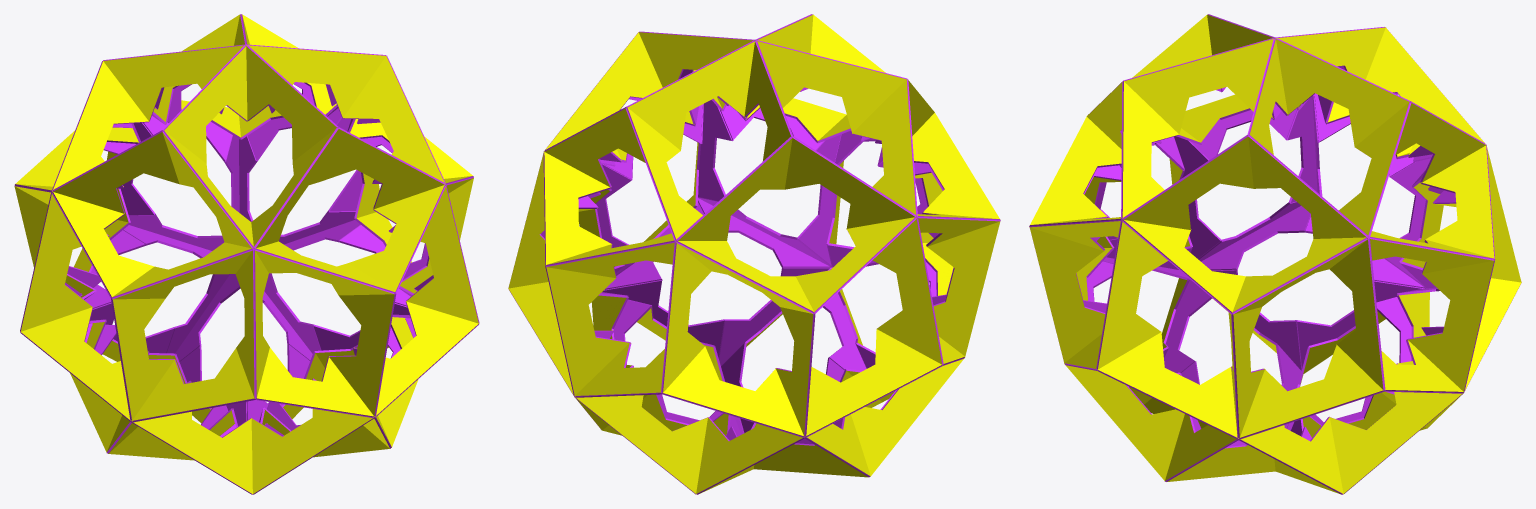
The model's file is Mobius120bS.glb.
The picture shows the model from 3 angles, left to right: view 1: azimuth 30°, elevation 25°; view 2: azimuth 150°, elevation 25°; view 3: azimuth 270°, elevation 25°; orthographic projection. The views are drawn at different scales.
Visible parts, largest first — view 1: Mesh_0001_1, Mesh_0001; view 2: Mesh_0001_1, Mesh_0001; view 3: Mesh_0001_1, Mesh_0001.
Boxes of the visible parts, x1,y1,x2,y2 form: Mesh_0001_1: [14, 14, 478, 494]; Mesh_0001: [14, 14, 479, 494]; Mesh_0001_1: [508, 14, 1000, 494]; Mesh_0001: [508, 14, 1000, 494]; Mesh_0001_1: [1029, 14, 1521, 494]; Mesh_0001: [1029, 14, 1521, 494].
Bounding box in the file's own units: 10.52 × 10.25 × 10.59.
